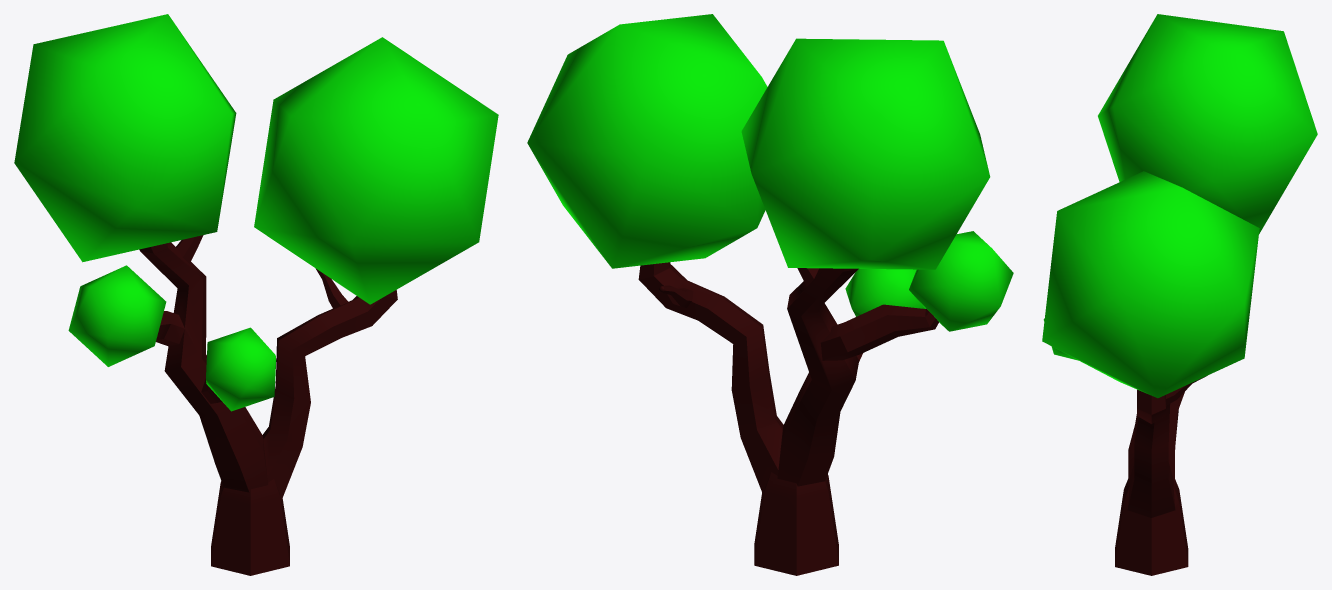
Rendered from Tree_A.fbx.
3 renders of one model, left to right at view 1: azimuth 30°, elevation 25°; view 2: azimuth 150°, elevation 25°; view 3: azimuth 270°, elevation 25°, orthographic. The views are drawn at different scales.
Parts seen in each view (by area): view 1: Tree_A; view 2: Tree_A; view 3: Tree_A.
Boxes of the visible parts, x1,y1,x2,y2 form: Tree_A: (14, 14, 498, 575); Tree_A: (527, 14, 1013, 575); Tree_A: (1042, 14, 1317, 575).
Size of the model in its own units: 3.94 by 4.47 by 2.3.
